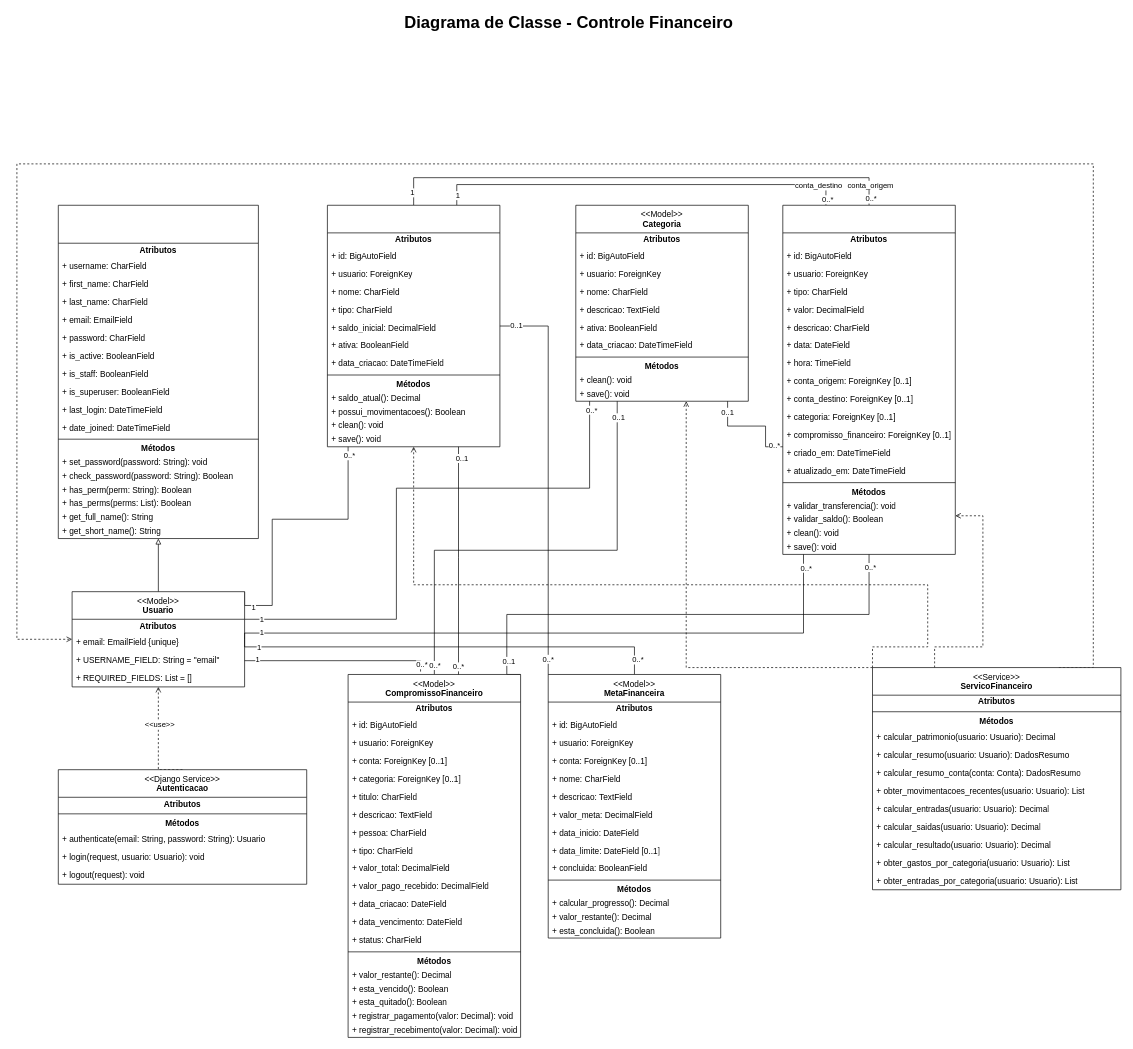
This 1133x1049 diagram has some shape labels left out. Here are the shapes that lost their labels. From the top down, the box of each, then its label:
(327, 205, 500, 447): <<Model>> Conta
(58, 205, 258, 539): <<Django>> AbstractUser {abstract}
(782, 205, 955, 554): <<Model>> Movimentacao
